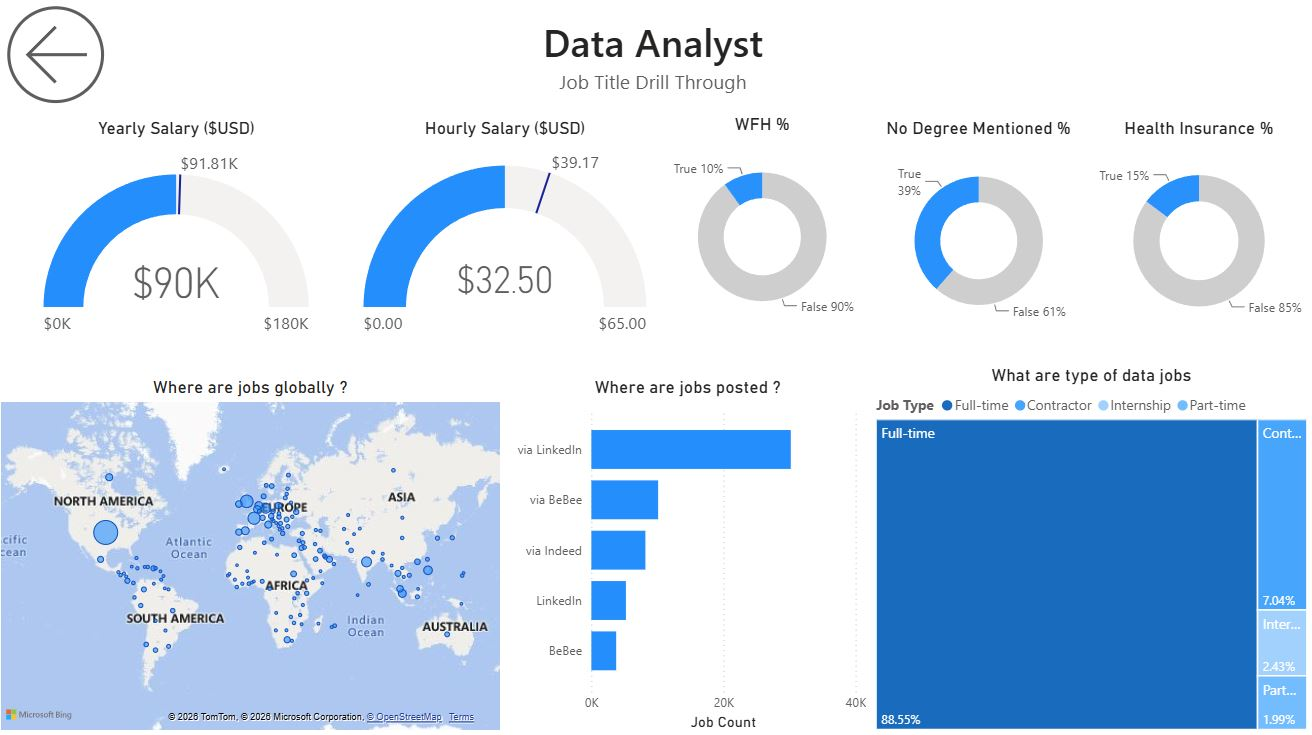

Layout of this report page (visuals, bound fields, positions):
{"tool":"powerbi","page":{"name":"Job title drill through","canvas":[1280,720],"ordinal":1},"visuals":[{"type":"cardVisual","fields":{"Data":["Min(job_postings_flat.job_title_short)"]},"box":[334.9,0,609.2,116.1],"z":0},{"type":"actionButton","box":[0,0,116.1,116.1],"z":1000},{"type":"gauge","title":"Yearly Salary ($USD)","fields":{"Y":["Median(job_postings_flat.salary_year_avg)"],"TargetValue":["Avg(job_postings_flat.salary_year_avg)"]},"box":[0,119.2,350.3,219.8],"z":2000},{"type":"gauge","title":"Hourly Salary ($USD)","fields":{"Y":["Median(job_postings_flat.salary_hour_avg)"],"TargetValue":["Avg(job_postings_flat.salary_hour_avg)1"]},"box":[350.3,119.2,289.7,219.8],"z":3000},{"type":"donutChart","title":"WFH %","fields":{"Category":["job_postings_flat.job_work_from_home"],"Y":["CountNonNull(job_postings_flat.job_work_from_home)"]},"box":[640,116.1,210.6,219.8],"z":4000},{"type":"donutChart","title":"No Degree Mentioned %","fields":{"Category":["job_postings_flat.job_no_degree_mention"],"Y":["CountNonNull(job_postings_flat.job_no_degree_mention)"]},"box":[850.6,119.2,209.6,219.8],"z":5000},{"type":"donutChart","title":"Health Insurance %","fields":{"Category":["job_postings_flat.job_health_insurance"],"Y":["CountNonNull(job_postings_flat.job_health_insurance)"]},"box":[1060.2,119.2,219.8,219.8],"z":6000},{"type":"map","title":"Where are jobs globally ?","fields":{"Category":["job_postings_flat.job_country"],"Size":["CountNonNull(job_postings_flat.job_title_short)"]},"box":[0,371.6,495.1,348.2],"z":7000},{"type":"treemap","title":"What are type of data jobs","fields":{"Group":["job_postings_flat.job_schedule_type"],"Values":["CountNonNull(job_postings_flat.job_schedule_type)"]},"box":[851.1,359.9,428.9,359.9],"z":8000},{"type":"barChart","title":"Where are jobs posted ?","fields":{"Category":["job_postings_flat.job_via"],"Y":["CountNonNull(job_postings_flat.job_title_short)"]},"box":[495.1,371.6,356,348.2],"z":8001}]}

Visuals, with their boxes in screenshot pixels (x1, y1, x2, y2), scaled from the page's 1280x720 canvas onto the 1312x735 screenshot:
cardVisual - Min(job_postings_flat.job_title_short): select_region(343, 0, 968, 119)
actionButton: select_region(0, 0, 119, 119)
"Yearly Salary ($USD)" gauge: select_region(0, 122, 359, 346)
"Hourly Salary ($USD)" gauge: select_region(359, 122, 656, 346)
"WFH %" donutChart: select_region(656, 119, 872, 343)
"No Degree Mentioned %" donutChart: select_region(872, 122, 1087, 346)
"Health Insurance %" donutChart: select_region(1087, 122, 1311, 346)
"Where are jobs globally ?" map: select_region(0, 379, 507, 734)
"What are type of data jobs" treemap: select_region(872, 367, 1311, 734)
"Where are jobs posted ?" barChart: select_region(507, 379, 872, 734)
